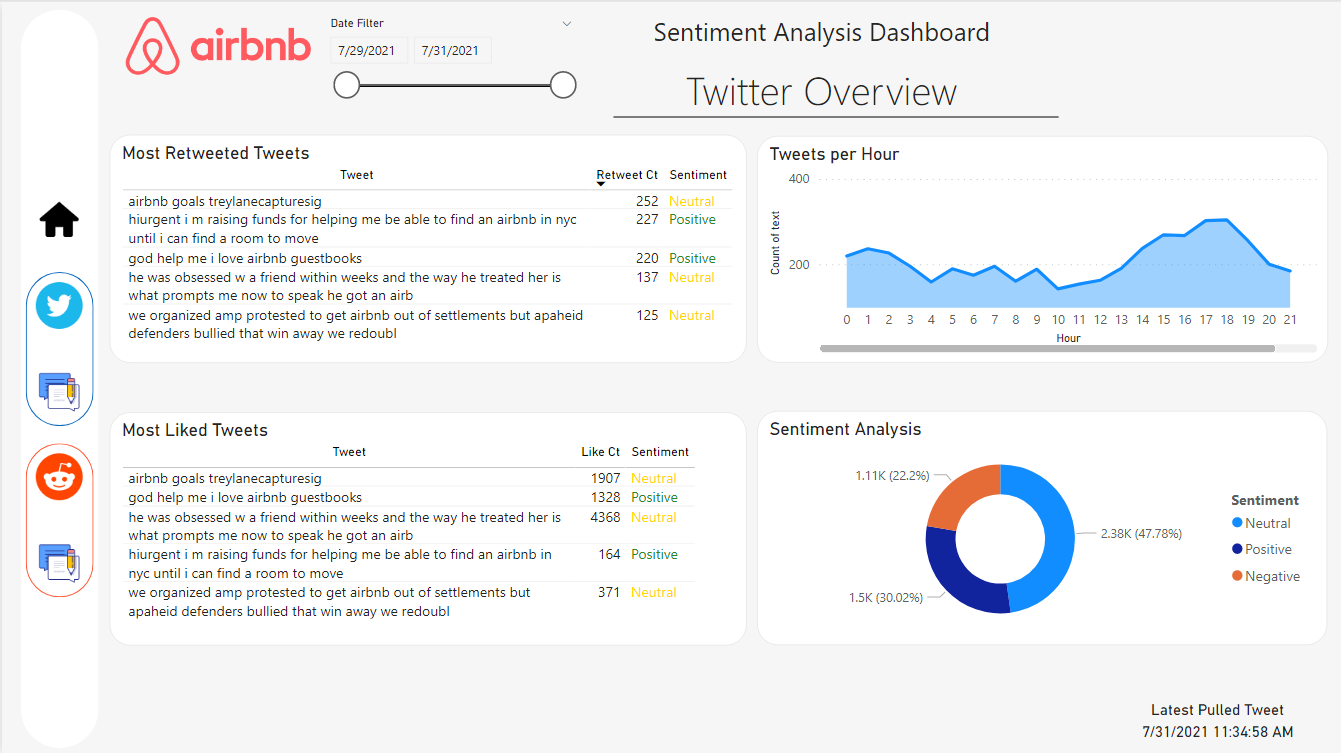

The page's visual inventory and layout, read from the dashboard file:
{"tool":"powerbi","page":{"name":"Twitter Overview","canvas":[1280,720],"ordinal":1},"visuals":[{"type":"shape","box":[17.9,6.9,74.2,705.9],"z":0},{"type":"image","box":[114,6.9,186.8,68.7],"z":1000},{"type":"textbox","box":[354.3,6.9,857,46.7],"z":2000},{"type":"textbox","box":[320,53.6,925.7,72.8],"z":3000},{"type":"shape","box":[583.7,104.4,425.8,12.4],"z":4000},{"type":"tableEx","title":"Most Retweeted Tweets","fields":{"Values":["AirbnbTweetsSentiment.text","Sum(AirbnbTweetsSentiment.retweetCount)","AirbnbTweetsSentiment.Sentiment"]},"box":[103,126.4,608.4,218.4],"z":5000},{"type":"tableEx","title":"Most Liked Tweets","fields":{"Values":["AirbnbTweetsSentiment.text","Sum(AirbnbTweetsSentiment.favoriteCount)","AirbnbTweetsSentiment.Sentiment"]},"box":[102.7,391.6,609,223.3],"z":6000},{"type":"areaChart","title":"Tweets per Hour","fields":{"Category":["AirbnbTweetsSentiment.Hour"],"Y":["CountNonNull(AirbnbTweetsSentiment.text)"]},"box":[721,127.7,545.2,217],"z":7000},{"type":"donutChart","title":"Sentiment Analysis","fields":{"Y":["CountNonNull(AirbnbTweetsSentiment.Sentiment)"],"Category":["AirbnbTweetsSentiment.Sentiment"]},"box":[721,391,545,224],"z":8000},{"type":"card","title":"Latest Pulled Tweet","fields":{"Values":["Max(AirbnbTweetsSentiment.created)"]},"box":[1055.5,667.5,211.3,45.4],"z":10000},{"type":"image","box":[27.5,258,54.9,64.5],"z":11000},{"type":"image","box":[27.5,339.9,54.9,64.5],"z":12000},{"type":"image","box":[27.5,421.9,54.9,64.5],"z":13000},{"type":"image","box":[27.5,503.9,54.9,64.5],"z":14000},{"type":"image","box":[27.5,176,54.9,64.5],"z":16000},{"type":"shape","box":[22.7,257.9,64.5,146.9],"z":17000},{"type":"shape","box":[22.7,421.5,64.5,146.9],"z":18000},{"type":"slicer","fields":{"Values":["AirbnbTweetsSentiment.created"]},"box":[300.8,8.4,256.3,108.6],"z":19000}]}

Visuals, with their boxes in screenshot pixels (x1, y1, x2, y2), scaled from the page's 1280x720 canvas onto the 1341x753 screenshot:
shape: 19, 7, 96, 745
image: 119, 7, 315, 79
textbox: 371, 7, 1269, 56
textbox: 335, 56, 1305, 132
shape: 612, 109, 1058, 122
"Most Retweeted Tweets" tableEx: 108, 132, 745, 361
"Most Liked Tweets" tableEx: 108, 410, 746, 643
"Tweets per Hour" areaChart: 755, 134, 1327, 360
"Sentiment Analysis" donutChart: 755, 409, 1326, 643
"Latest Pulled Tweet" card: 1106, 698, 1327, 746
image: 29, 270, 86, 337
image: 29, 355, 86, 423
image: 29, 441, 86, 509
image: 29, 527, 86, 594
image: 29, 184, 86, 252
shape: 24, 270, 91, 423
shape: 24, 441, 91, 594
slicer - AirbnbTweetsSentiment.created: 315, 9, 584, 122
